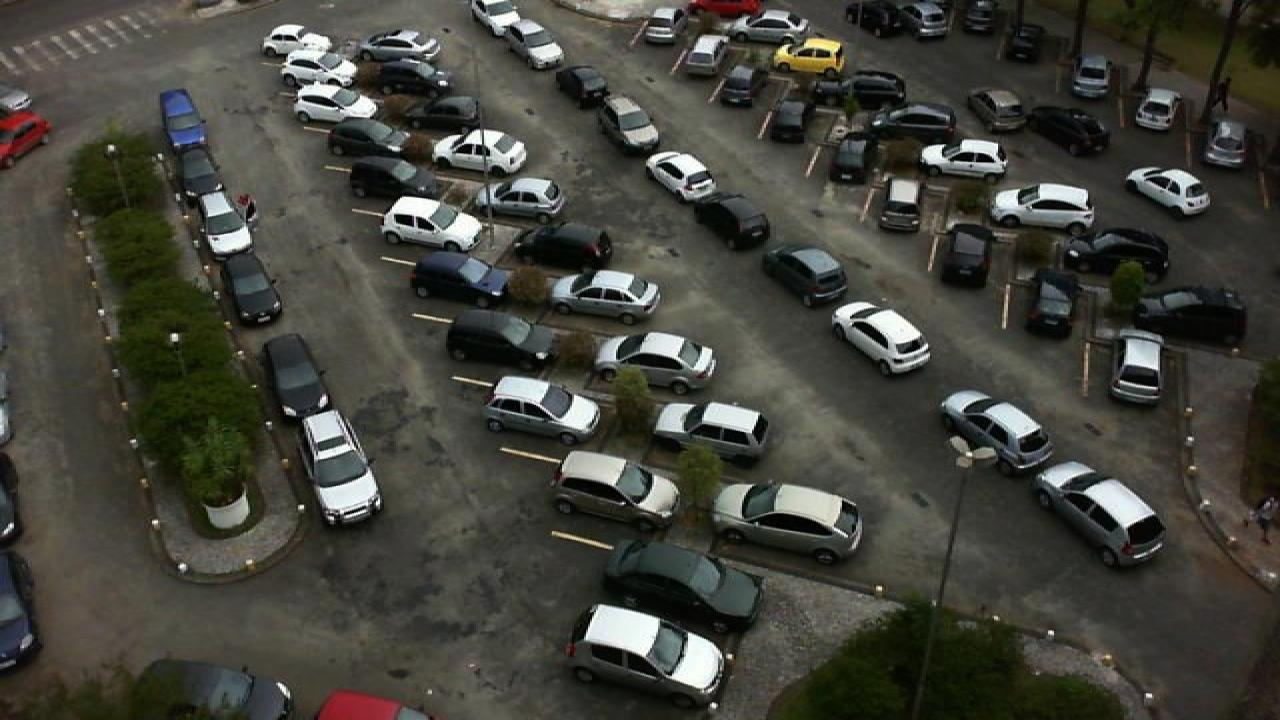Car: (568, 603, 728, 709), (604, 536, 764, 638), (1036, 461, 1168, 569), (708, 480, 862, 565), (552, 450, 684, 533), (940, 390, 1056, 478), (138, 658, 292, 720), (480, 374, 602, 446), (650, 400, 770, 468), (594, 331, 718, 395), (832, 300, 932, 377), (444, 308, 562, 373), (1132, 284, 1248, 346), (302, 446, 384, 528), (550, 269, 662, 326), (380, 195, 484, 254), (408, 250, 508, 308), (262, 334, 330, 419), (1066, 229, 1174, 282), (758, 245, 850, 307), (988, 182, 1100, 232), (296, 406, 366, 480), (216, 252, 282, 326), (432, 128, 528, 178), (516, 223, 614, 271), (346, 155, 440, 205), (692, 192, 772, 250), (1124, 166, 1212, 218), (1110, 330, 1166, 404), (1028, 106, 1110, 156), (1020, 270, 1076, 340), (810, 69, 908, 108), (288, 82, 376, 125), (644, 151, 718, 201), (198, 192, 254, 258), (484, 176, 566, 221), (920, 138, 1006, 180), (326, 117, 408, 160), (872, 102, 958, 143), (940, 222, 996, 284), (600, 96, 664, 150), (160, 88, 210, 156), (506, 17, 566, 70), (276, 50, 358, 86), (408, 96, 484, 134), (376, 58, 452, 96), (966, 87, 1030, 132), (360, 28, 444, 62), (772, 37, 846, 75), (176, 148, 226, 202), (1200, 119, 1250, 171), (554, 66, 612, 110), (736, 9, 810, 43), (260, 24, 336, 57), (878, 179, 924, 233), (826, 135, 876, 182), (894, 0, 952, 40), (1134, 86, 1180, 132), (1070, 54, 1112, 100), (766, 100, 810, 143), (846, 0, 896, 36), (470, 0, 522, 34), (684, 36, 724, 79), (718, 66, 756, 109), (1004, 22, 1044, 62), (638, 7, 680, 45), (686, 0, 762, 20), (960, 0, 1000, 37)
